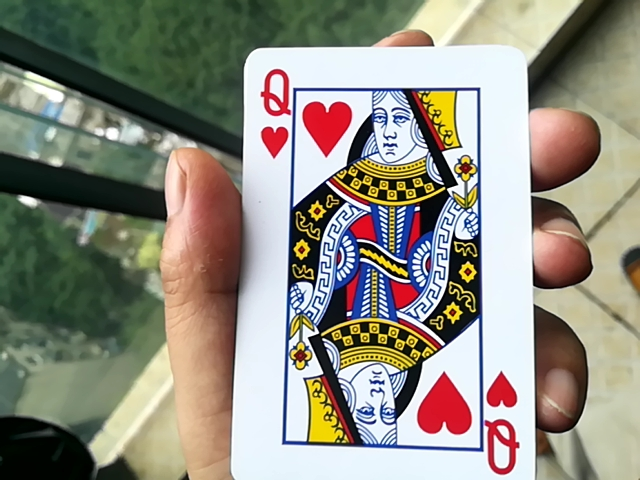hx q: (210, 43, 548, 477)
